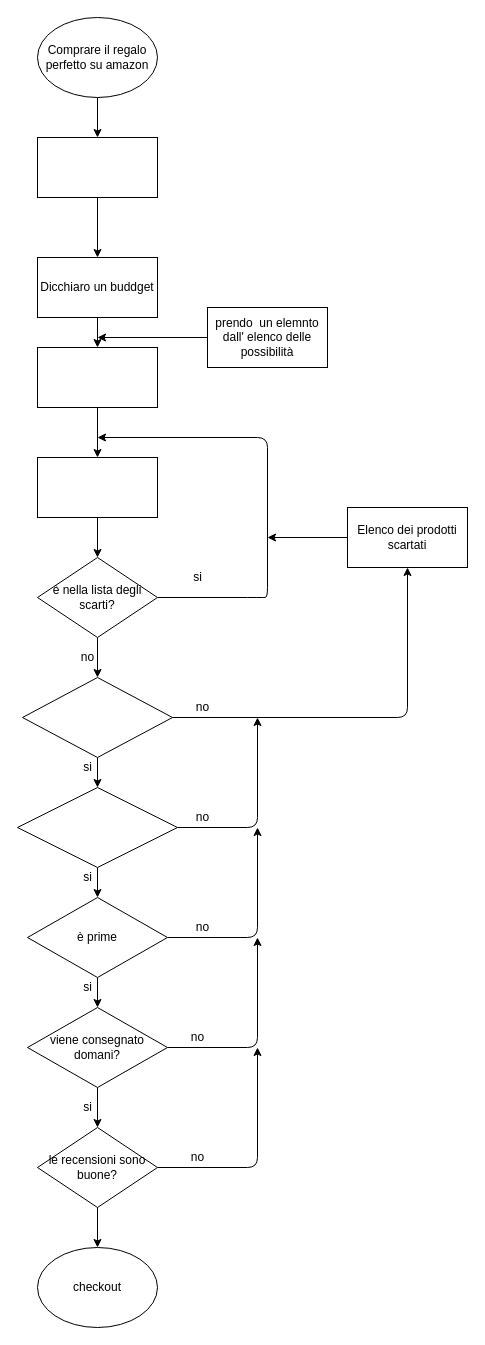
This 485x1345 diagram has some shape labels left out. The centre of each missing label's shape, as x and y in pixels:
dicchiaro un elenco dei regali possibili: (97,167)
ininzio ricerca: (97,377)
prendo un articolo: (97,487)
è nel budget?: (97,827)
è nell'elenco delle possibilità?: (97,717)
